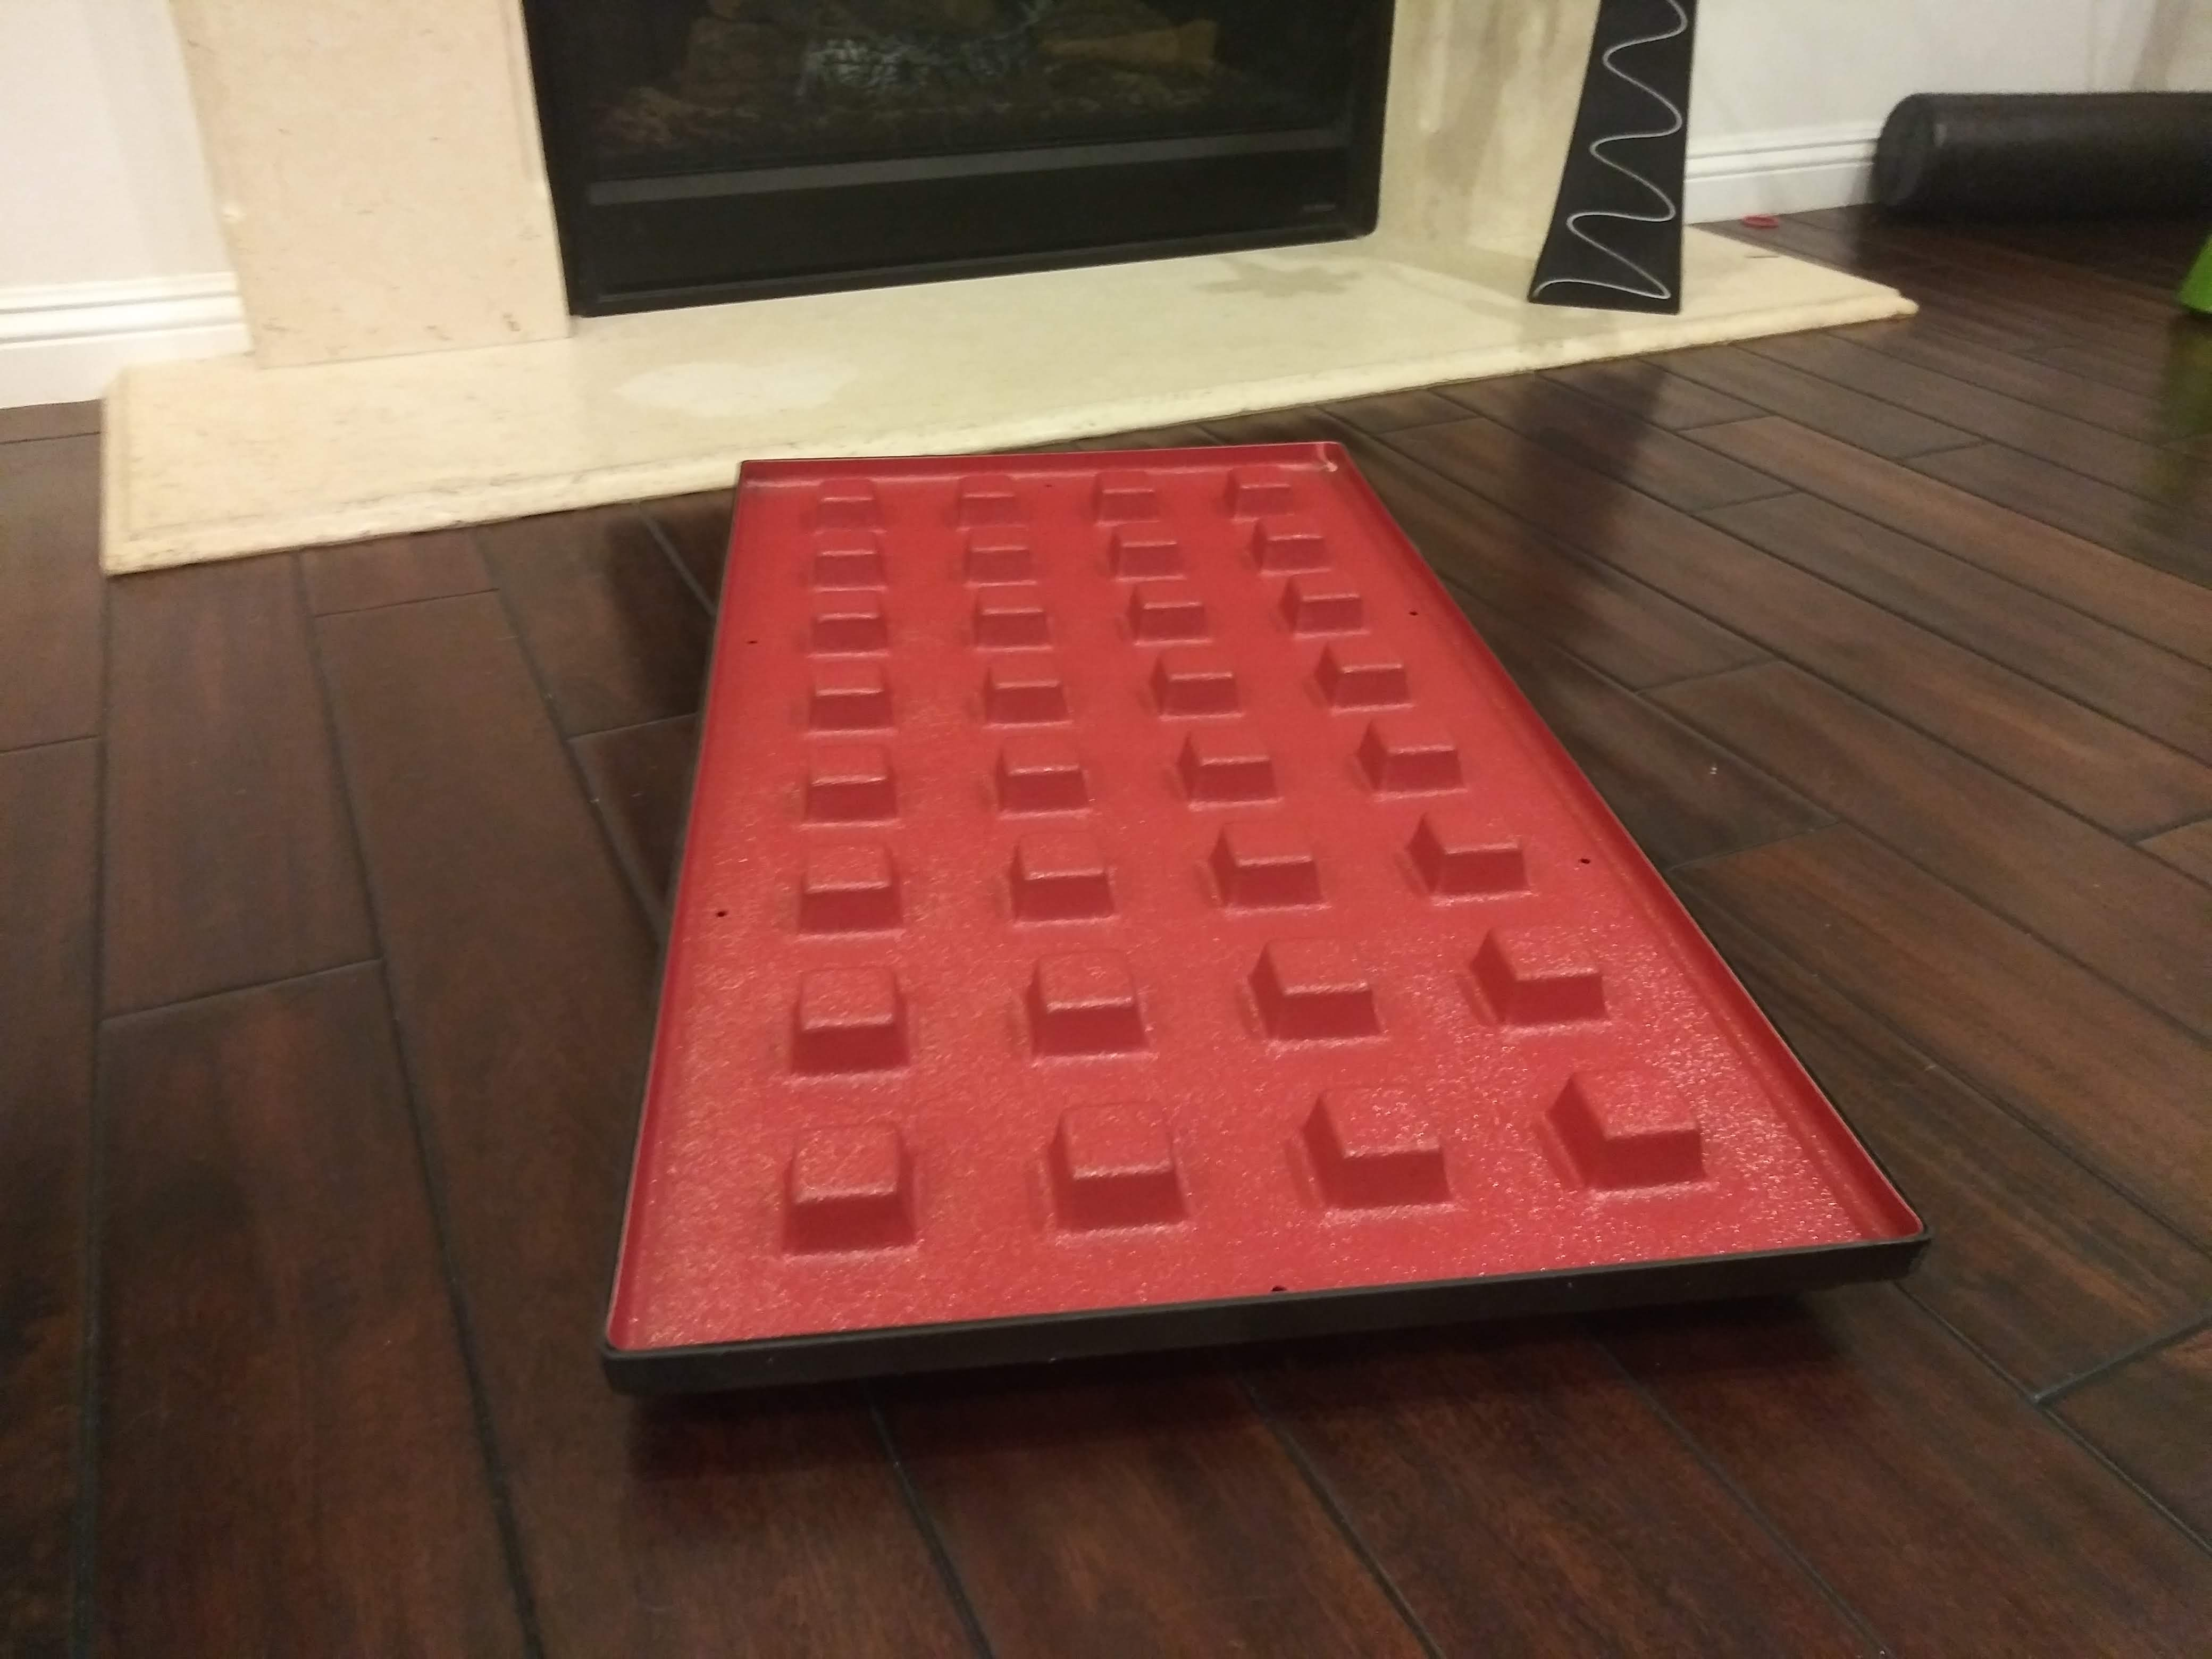red foundation: (590, 362, 1946, 1417)
